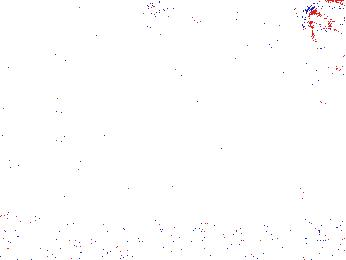moon jellyfish: (259, 26, 346, 109), (135, 10, 191, 99), (190, 4, 249, 63), (138, 1, 202, 50), (305, 1, 346, 75)
